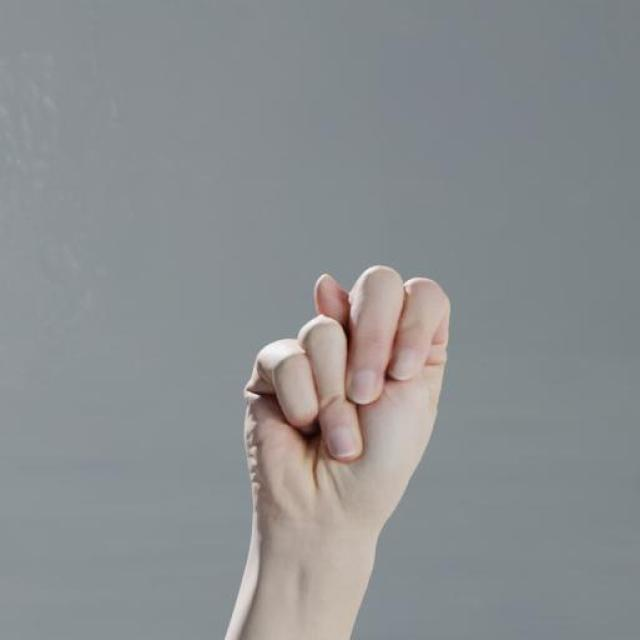N: (239, 260, 452, 530)
